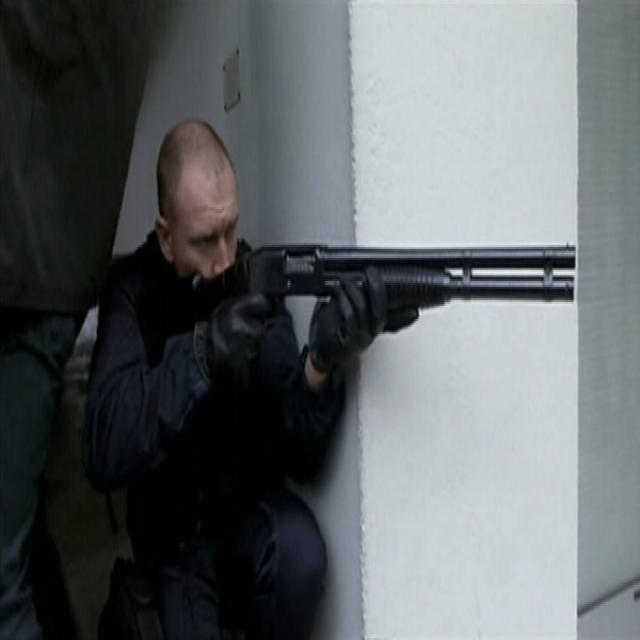rifle: (186, 228, 587, 337)
